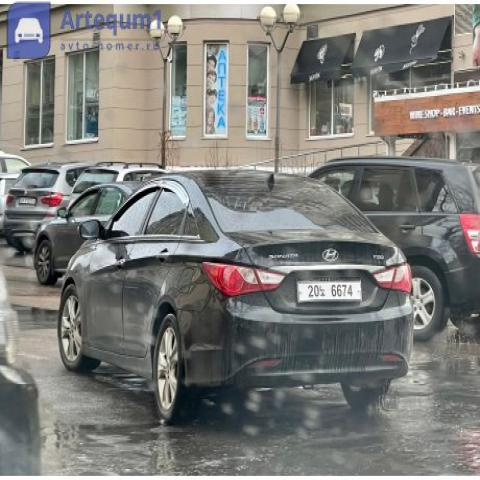LP: (292, 270, 368, 308)
